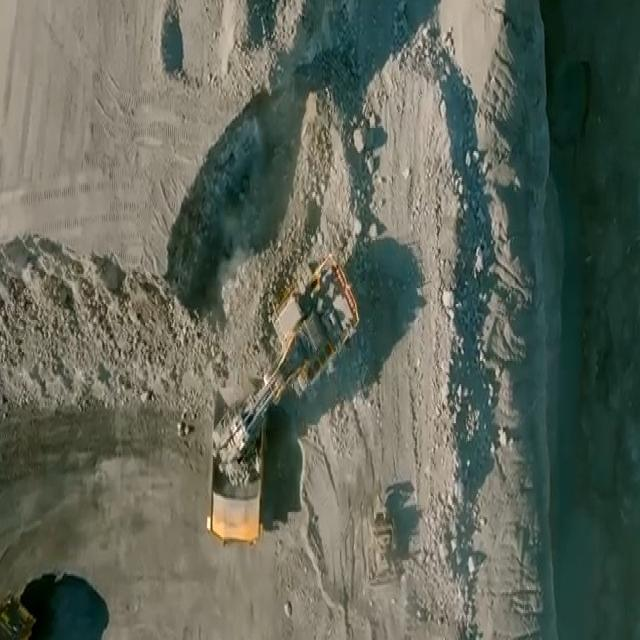excavator: (213, 254, 355, 461)
